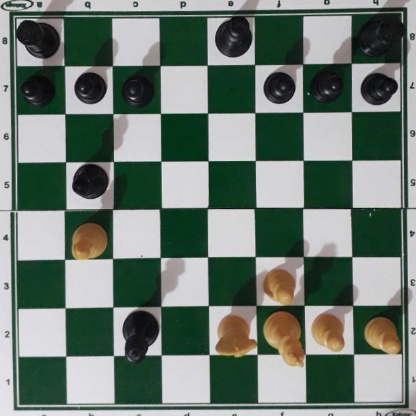black-bishop: (70, 163, 111, 200)
black-king: (213, 15, 254, 58)
black-pawn: (360, 69, 396, 105), (262, 68, 295, 103), (20, 71, 54, 104), (73, 70, 105, 104), (311, 67, 343, 101), (121, 71, 153, 105)
black-queen: (120, 309, 160, 364)
black-rook: (13, 15, 61, 58), (358, 14, 405, 55)
white-bishop: (70, 221, 107, 261)
white-king: (263, 311, 303, 367)
white-knight: (213, 313, 257, 357)
white-pawn: (310, 312, 346, 352), (363, 315, 400, 353), (261, 266, 296, 303)
